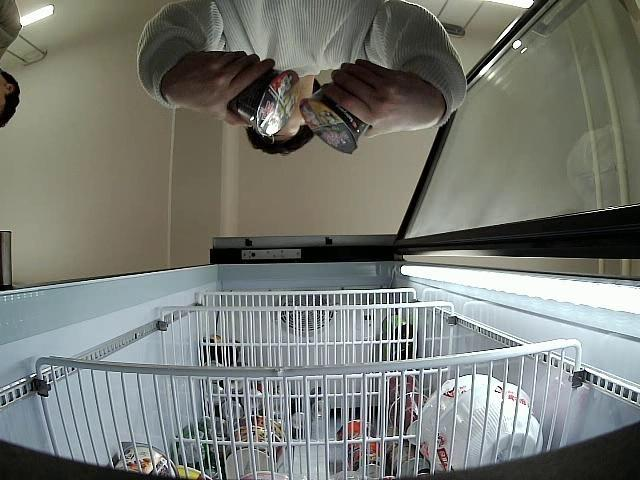08_buldak_S: (230, 68, 300, 138), (300, 87, 368, 156)
